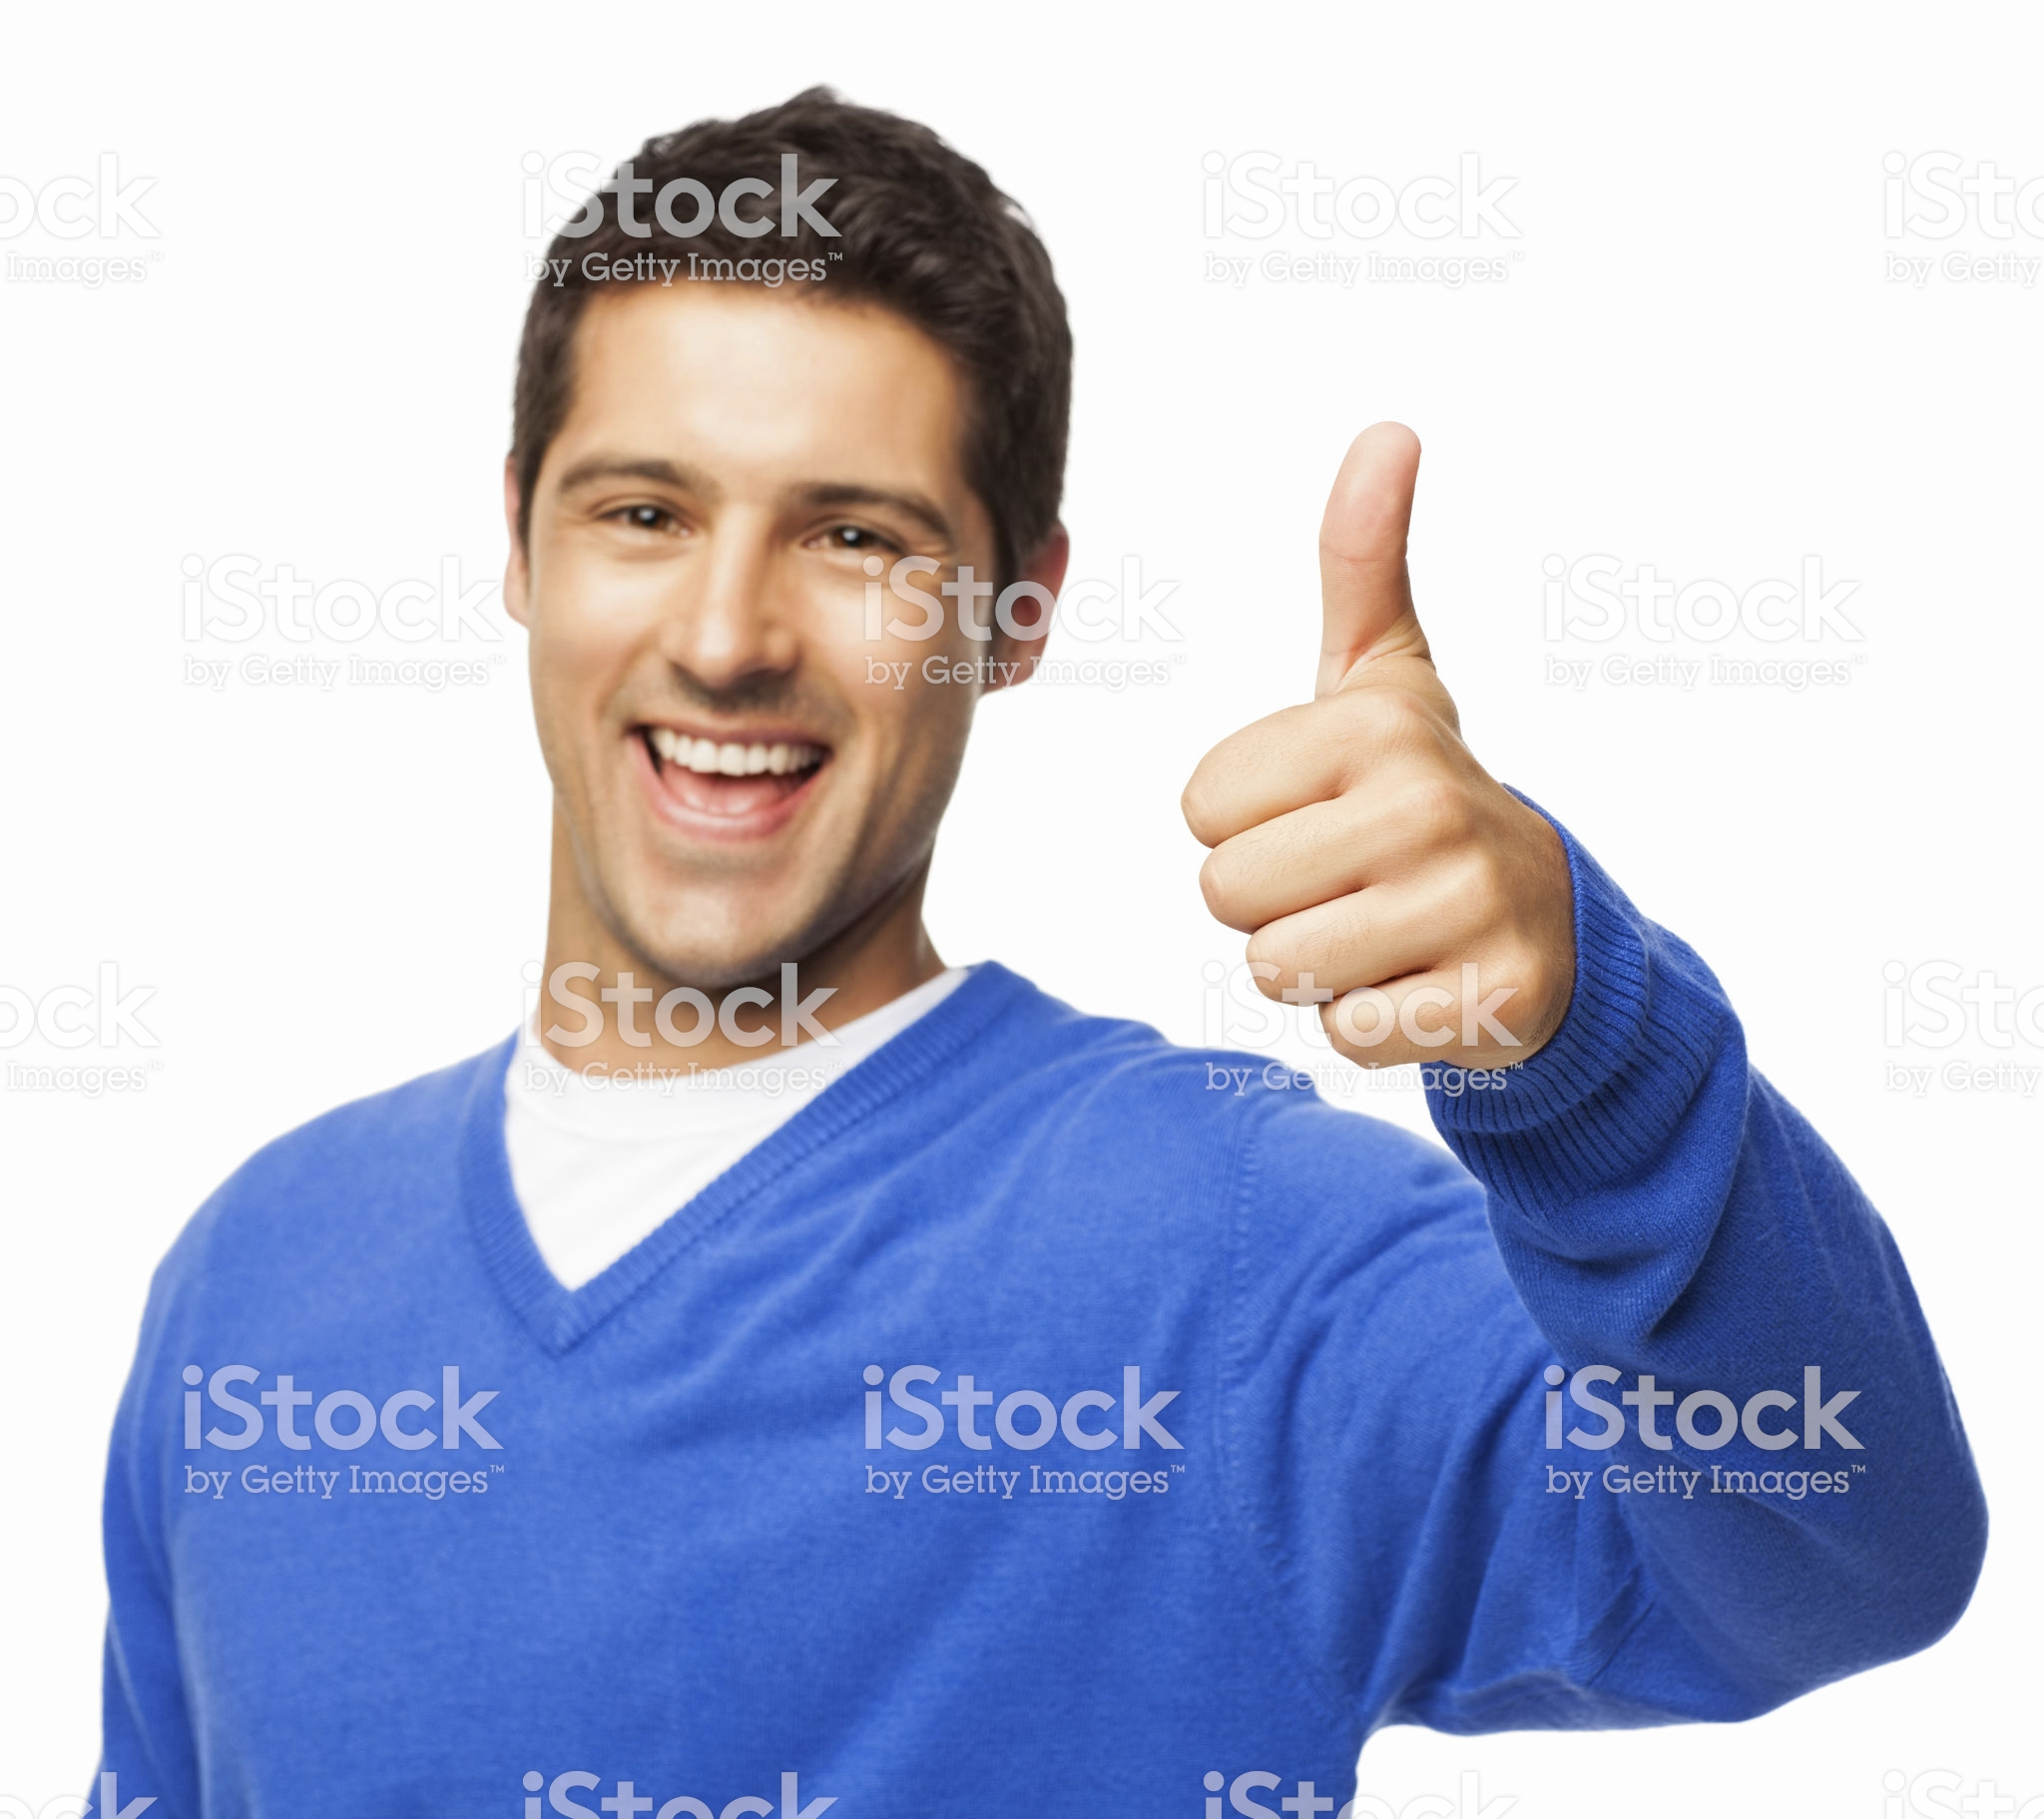thumbsup: (1173, 421, 1529, 1068)
